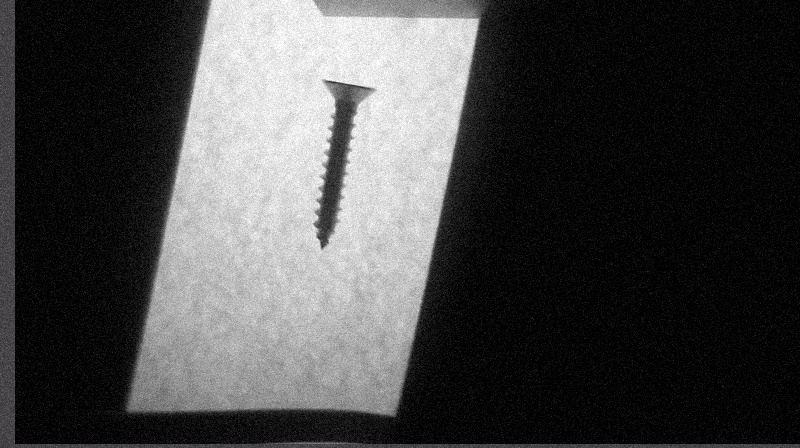S001: (308, 76, 382, 250)
